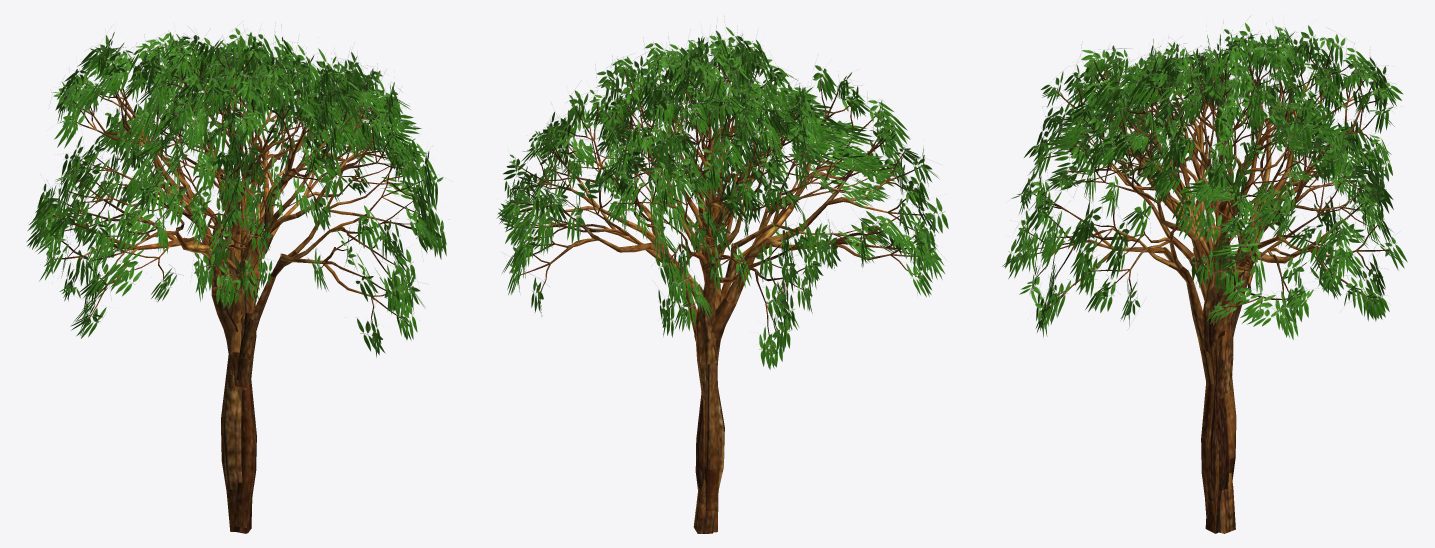
The model's file is tree-one.glb.
The picture shows the model from 3 angles, left to right: view 1: azimuth 30°, elevation 25°; view 2: azimuth 150°, elevation 25°; view 3: azimuth 270°, elevation 25°; orthographic projection. The views are drawn at different scales.
Size of the model in its own units: 74.61 by 81.3 by 63.25.
Materials: 1 (1 with a texture image).
